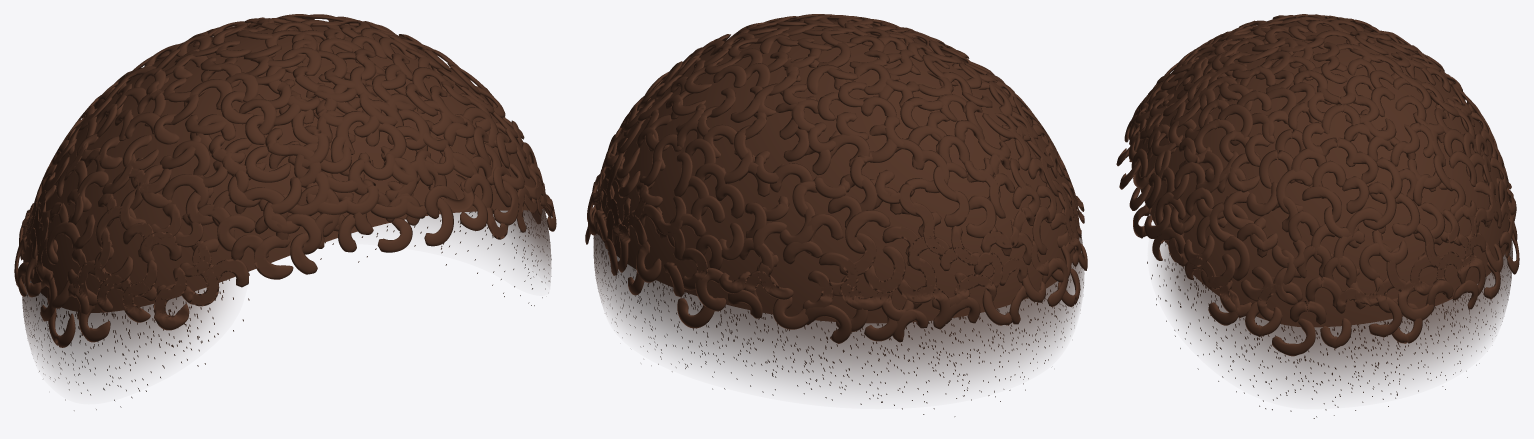
File: Masculine-curly-top-beanie-hair.glb
3 renders of one model, left to right at view 1: azimuth 30°, elevation 25°; view 2: azimuth 150°, elevation 25°; view 3: azimuth 270°, elevation 25°, orthographic. The views are drawn at different scales.
Parts seen in each view (by area): view 1: 226 hair / Hair / sculpted curl clusters227, 226 hair / Hair / curly taper density227, 226 hair / Hair / short taper grain227; view 2: 226 hair / Hair / sculpted curl clusters227, 226 hair / Hair / curly taper density227, 226 hair / Hair / short taper grain227; view 3: 226 hair / Hair / sculpted curl clusters227, 226 hair / Hair / curly taper density227, 226 hair / Hair / short taper grain227.
Boxes of the visible parts, x1=… form: 226 hair / Hair / sculpted curl clusters227: x1=14, y1=14, x2=556, y2=347; 226 hair / Hair / curly taper density227: x1=22, y1=208, x2=550, y2=380; 226 hair / Hair / short taper grain227: x1=22, y1=209, x2=551, y2=410; 226 hair / Hair / sculpted curl clusters227: x1=585, y1=14, x2=1087, y2=343; 226 hair / Hair / curly taper density227: x1=593, y1=224, x2=1084, y2=391; 226 hair / Hair / short taper grain227: x1=593, y1=235, x2=1083, y2=416; 226 hair / Hair / sculpted curl clusters227: x1=1116, y1=14, x2=1519, y2=356; 226 hair / Hair / curly taper density227: x1=1158, y1=238, x2=1512, y2=390; 226 hair / Hair / short taper grain227: x1=1147, y1=240, x2=1512, y2=418.
Bounding box in the file's own units: 0.9976 × 0.6398 × 0.801.
